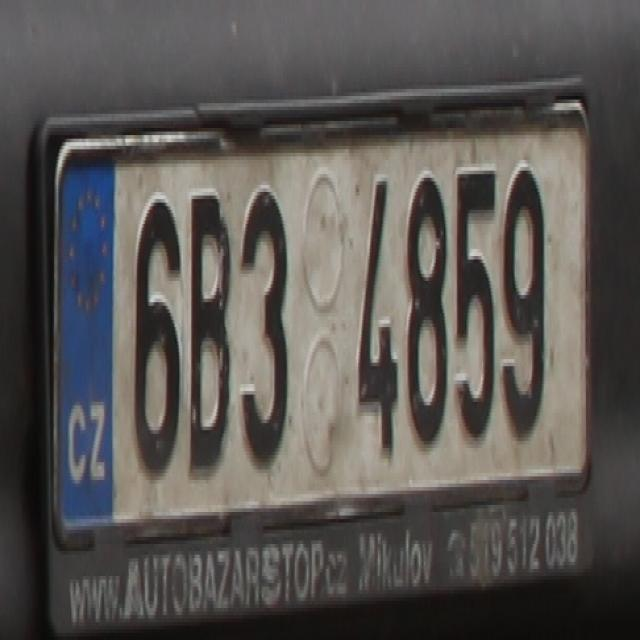3: (237, 178, 288, 466)
4: (353, 178, 402, 452)
5: (453, 160, 496, 437)
6: (129, 192, 179, 476)
8: (406, 170, 448, 427)
9: (501, 153, 546, 444)
B: (183, 185, 232, 473)
